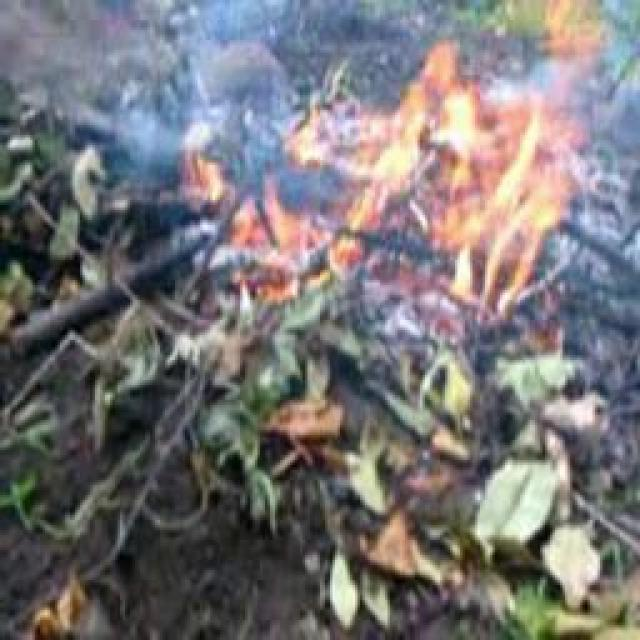Fire: (196, 43, 592, 306)
